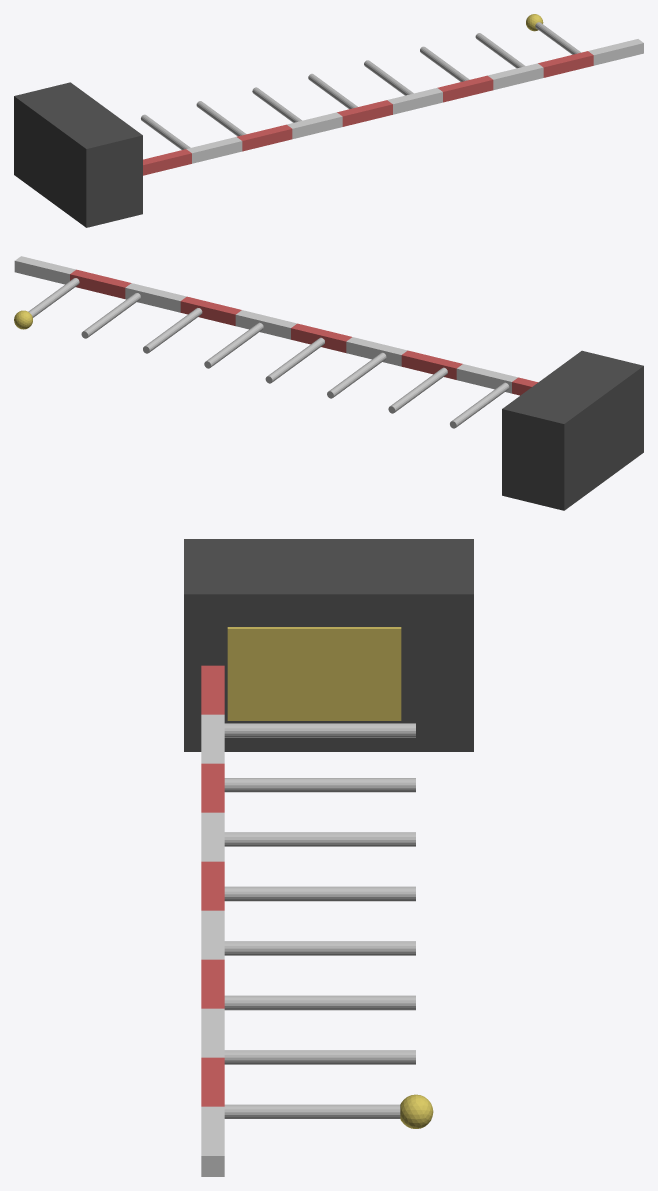
Rendered from barrier_gate.glb.
3 renders of one model, top to bottom at view 1: azimuth 30°, elevation 25°; view 2: azimuth 150°, elevation 25°; view 3: azimuth 270°, elevation 25°, orthographic. The views are drawn at different scales.
Parts seen in each view (by area): view 1: world; view 2: world; view 3: world.
Boxes of the visible parts, <box> form: world: <box>14,14,643,227</box>; world: <box>14,256,643,510</box>; world: <box>184,539,473,1176</box>.
Size of the model in its own units: 4.47 by 0.6 by 1.
